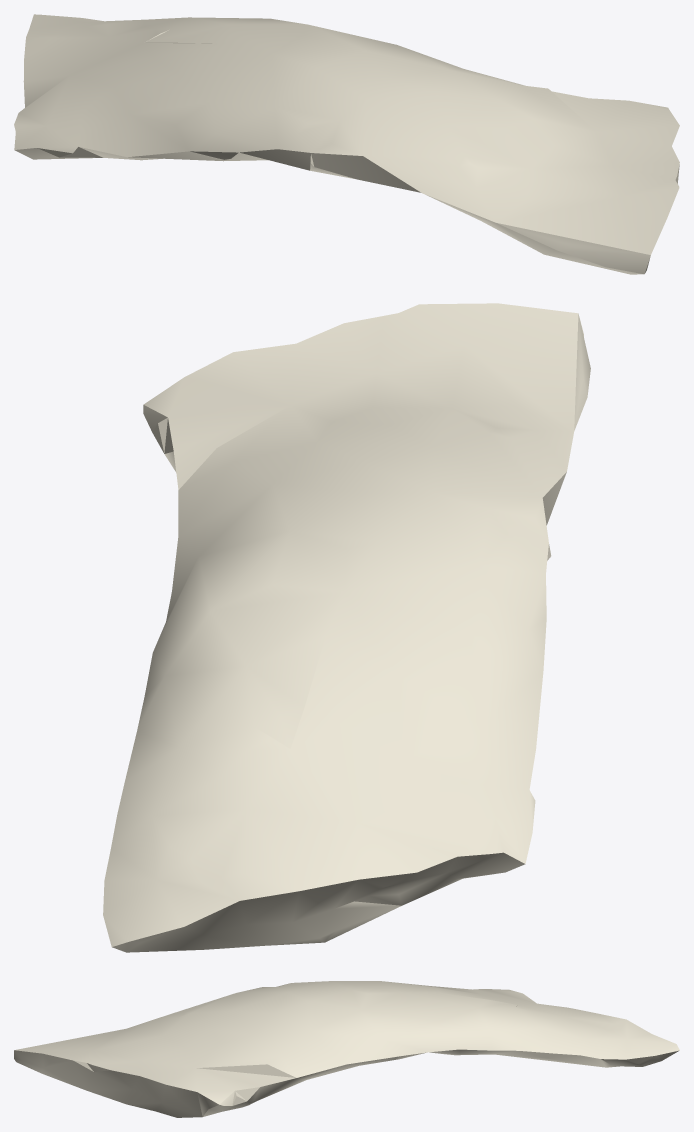
File: fma44506_mm1372m.glb
3 renders of one model, top to bottom at view 1: azimuth 30°, elevation 25°; view 2: azimuth 150°, elevation 25°; view 3: azimuth 270°, elevation 25°, orthographic. The views are drawn at different scales.
Visible parts, largest first — view 1: FMA44506_MM1372M; view 2: FMA44506_MM1372M; view 3: FMA44506_MM1372M.
Boxes of the visible parts, x1=… form: FMA44506_MM1372M: x1=14, y1=14, x2=679, y2=274; FMA44506_MM1372M: x1=103, y1=303, x2=590, y2=952; FMA44506_MM1372M: x1=14, y1=981, x2=679, y2=1117.
Size of the model in its own units: 0.01 by 0.003 by 0.0176.
